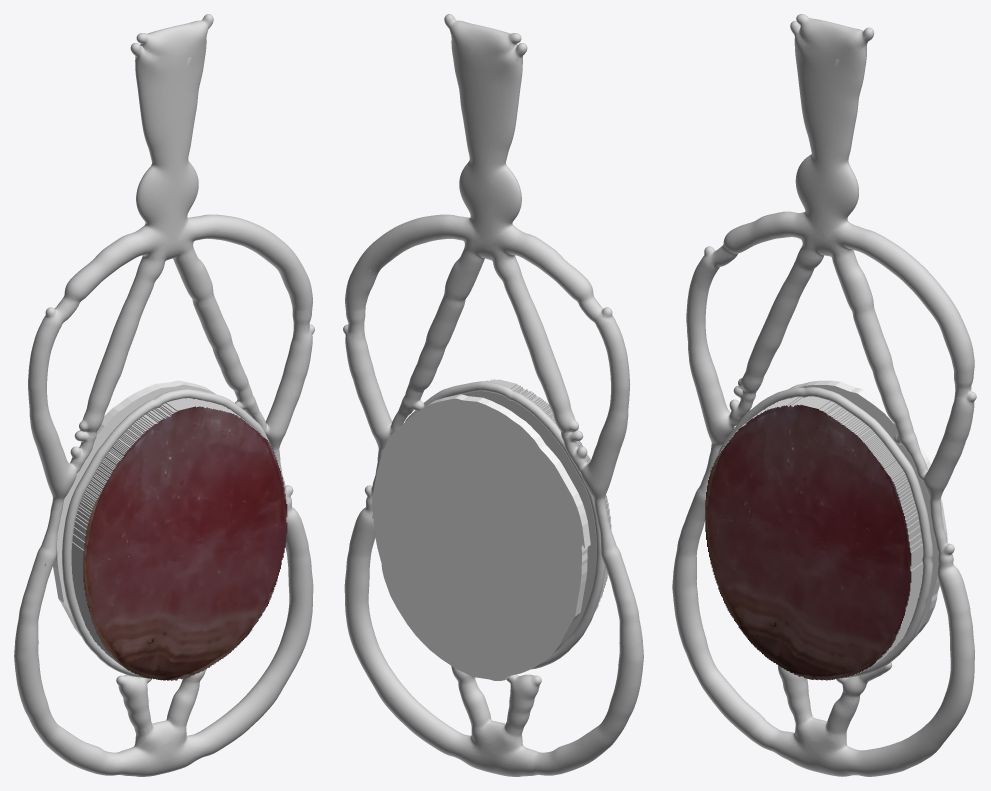
3 renders of one model, left to right at view 1: azimuth 30°, elevation 25°; view 2: azimuth 150°, elevation 25°; view 3: azimuth 330°, elevation 25°, orthographic.
Visible parts, largest first — view 1: joya; view 2: joya; view 3: joya.
Boxes of the visible parts, <box> form: joya: <box>14,14,314,776</box>; joya: <box>343,14,643,776</box>; joya: <box>672,14,976,776</box>.
Bounding box in the file's own units: 0.0182 × 0.0436 × 0.00325.
Materials: 3 (1 with a texture image).
